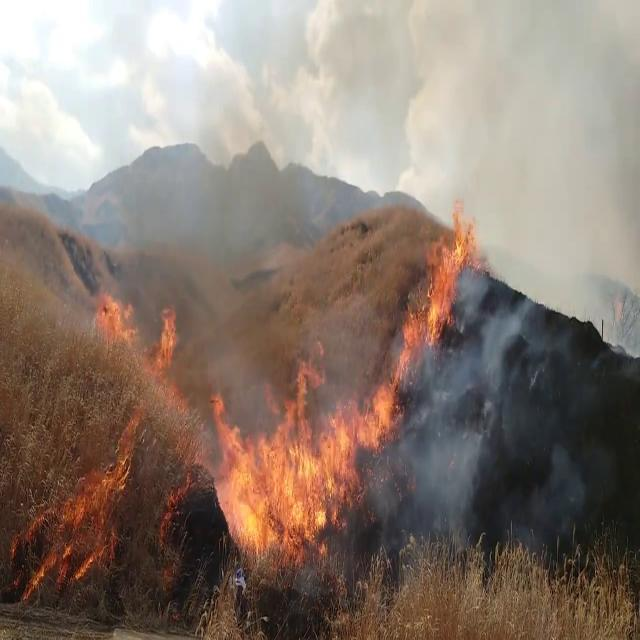Fire: (205, 354, 399, 562), (10, 442, 132, 592), (412, 198, 474, 364), (91, 282, 137, 344), (154, 300, 180, 381)
Smoke: (100, 20, 386, 312), (389, 304, 583, 564)
